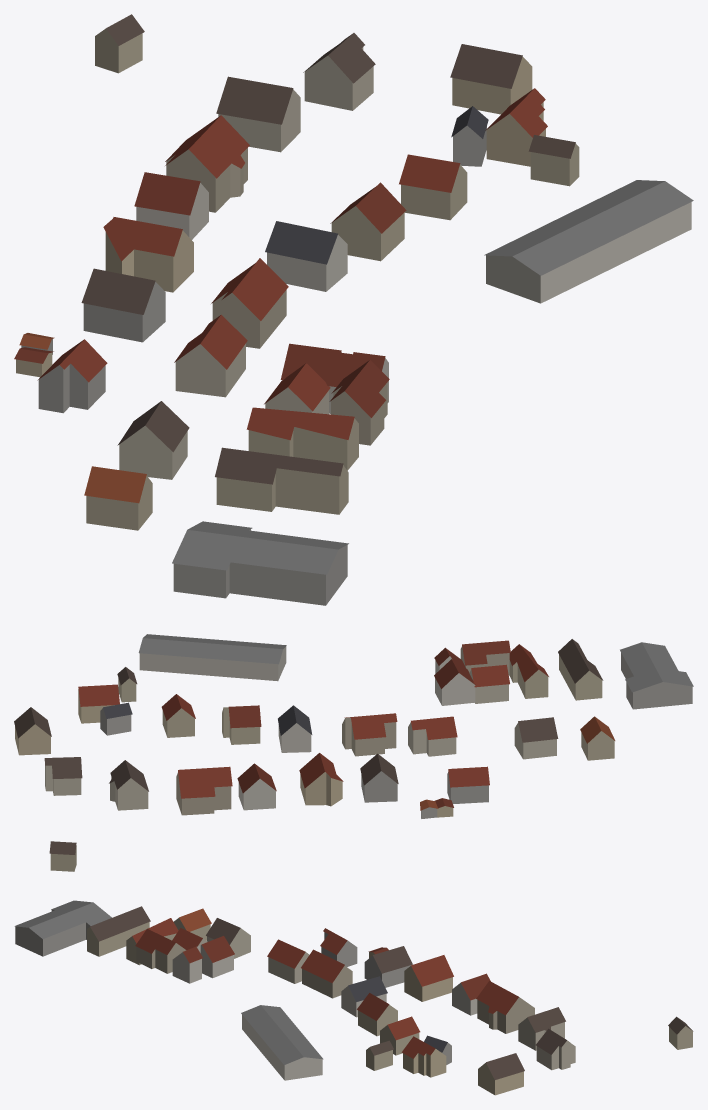
3 renders of one model, top to bottom at view 1: azimuth 30°, elevation 25°; view 2: azimuth 150°, elevation 25°; view 3: azimuth 270°, elevation 25°, orthographic. The views are drawn at different scales.
Visible parts, largest first — view 1: buildings; view 2: buildings; view 3: buildings.
Part boxes in pixels (left/top/right/bottom): buildings: left=14, top=14, right=693, bottom=605; buildings: left=14, top=634, right=693, bottom=871; buildings: left=14, top=900, right=693, bottom=1095.
Bounding box in the file's own units: 160 × 23.62 × 228.
